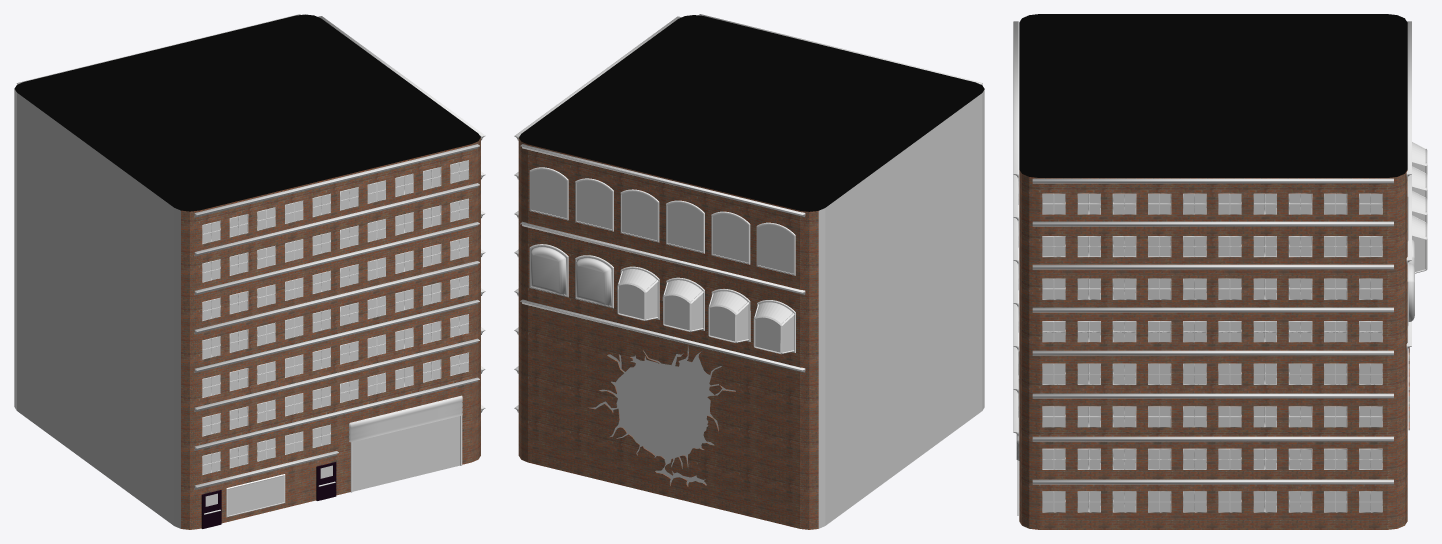
The picture shows the model from 3 angles, left to right: view 1: azimuth 30°, elevation 25°; view 2: azimuth 150°, elevation 25°; view 3: azimuth 270°, elevation 25°; orthographic projection. The views are drawn at different scales.
Visible parts, largest first — view 1: Wall, Window.004, Cube.001, Window.003, Window.001, Cube; view 2: Wall, Plane, Vert, Plane.002, Cube.002, Plane.001, Cube; view 3: Wall, Window, Cube, Cube.001, Plane.002, Cube.002, Plane.001.
Boxes of the visible parts, x1,y1,x2,y2 form: Wall: [14, 14, 480, 529]; Window.004: [202, 160, 468, 474]; Cube.001: [194, 144, 479, 489]; Window.003: [316, 395, 462, 500]; Window.001: [201, 474, 285, 528]; Cube: [318, 16, 485, 412]; Wall: [518, 15, 984, 529]; Plane: [529, 167, 795, 275]; Vert: [588, 344, 735, 486]; Plane.002: [617, 266, 795, 354]; Cube.002: [520, 144, 805, 372]; Plane.001: [529, 244, 613, 308]; Cube: [514, 16, 681, 412]; Wall: [1019, 14, 1407, 529]; Window: [1042, 193, 1382, 512]; Cube: [1032, 178, 1393, 484]; Cube.001: [1013, 21, 1018, 436]; Plane.002: [1412, 142, 1427, 273]; Cube.002: [1406, 21, 1411, 350]; Plane.001: [1407, 239, 1414, 325].
Bounding box in the file's own units: 26.18 × 25.84 × 27.56.
Materials: 13 (2 with a texture image).
